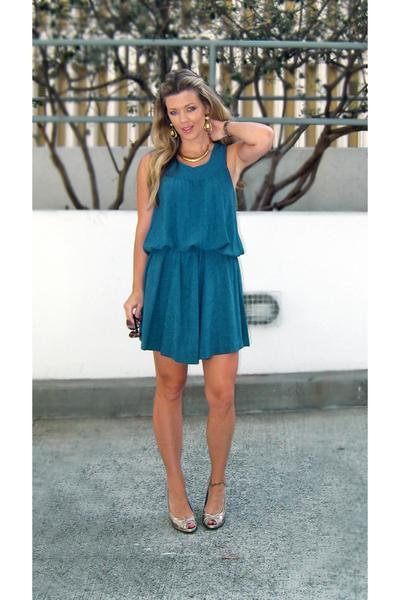dress: (133, 129, 249, 364)
shoe: (168, 492, 231, 536)
